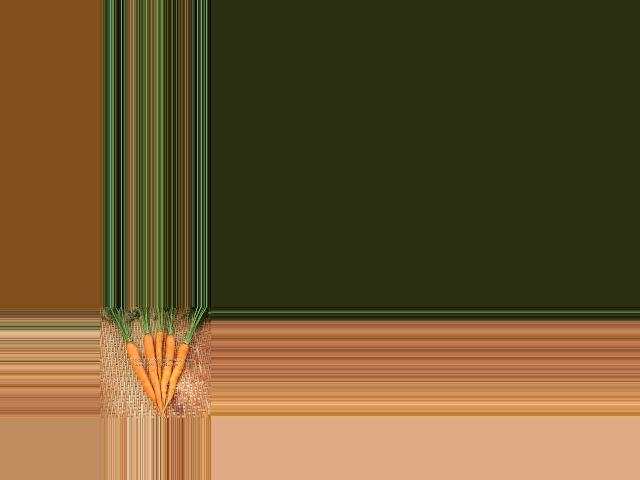carrot: (166, 342, 190, 402)
